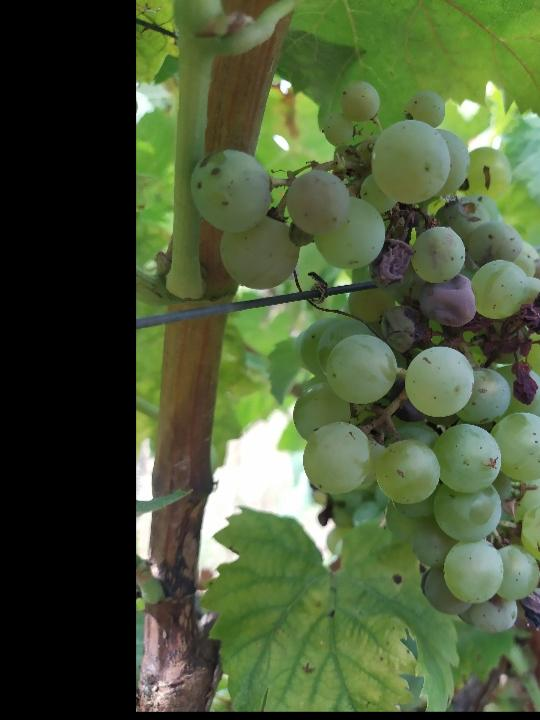grape: (186, 78, 540, 637)
